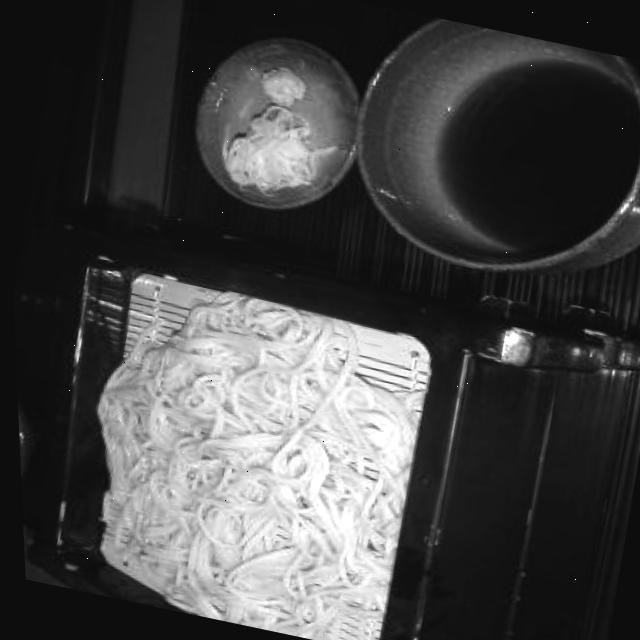面条主食: (7, 191, 640, 640)
